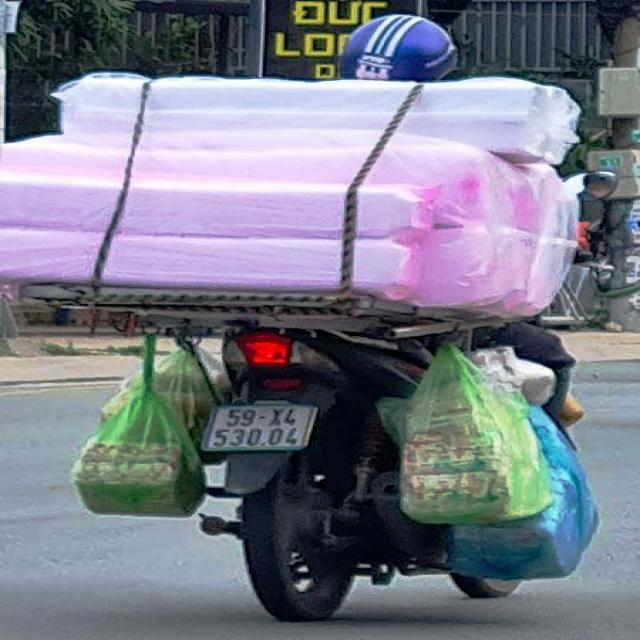license_plate: (203, 407, 314, 451)
